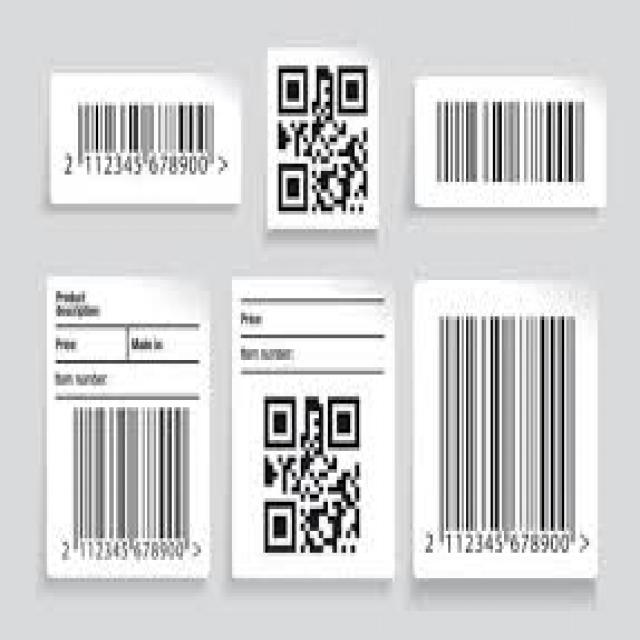Barkod: (418, 298, 594, 558), (429, 85, 598, 196), (56, 96, 230, 192)
